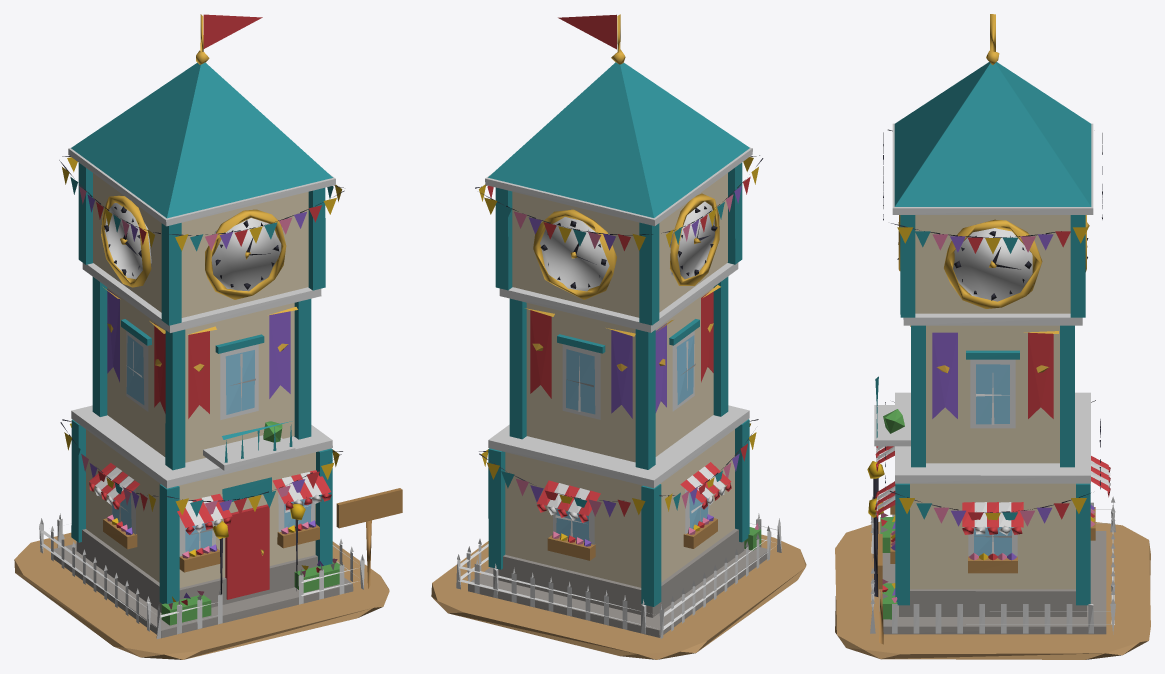
File: clock-tower-lod1-5.e748c631.glb
3 views of the same model, side by side, from view 1: azimuth 30°, elevation 25°; view 2: azimuth 150°, elevation 25°; view 3: azimuth 270°, elevation 25° (orthographic). The views are drawn at different scales.
Parts seen in each view (by area): view 1: ClockTower_Stage5__T_vcol; view 2: ClockTower_Stage5__T_vcol; view 3: ClockTower_Stage5__T_vcol.
Boxes of the visible parts, <box> form: ClockTower_Stage5__T_vcol: <box>14,14,402,659</box>; ClockTower_Stage5__T_vcol: <box>431,14,806,659</box>; ClockTower_Stage5__T_vcol: <box>835,14,1150,659</box>.
Size of the model in its own units: 4.94 by 9.62 by 4.75.
